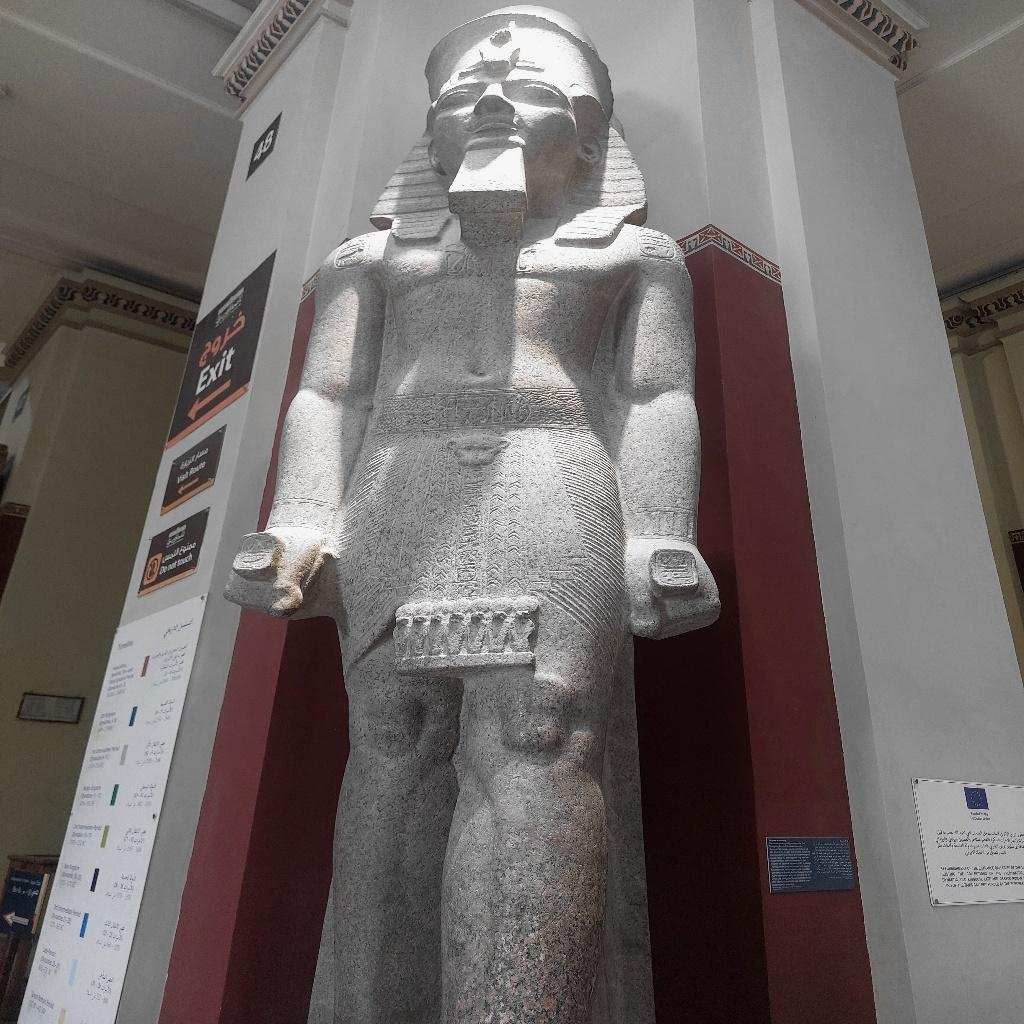Colossal Statue of Ramesses II: (220, 5, 726, 1021)
